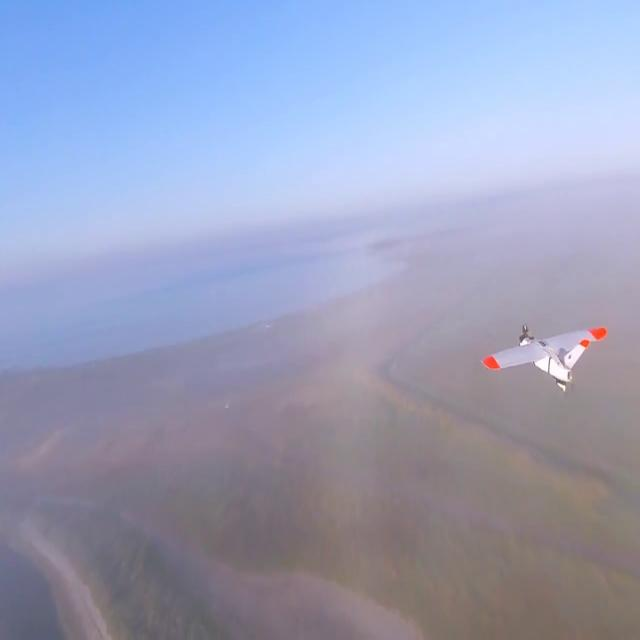iha: (512, 353, 576, 359)
